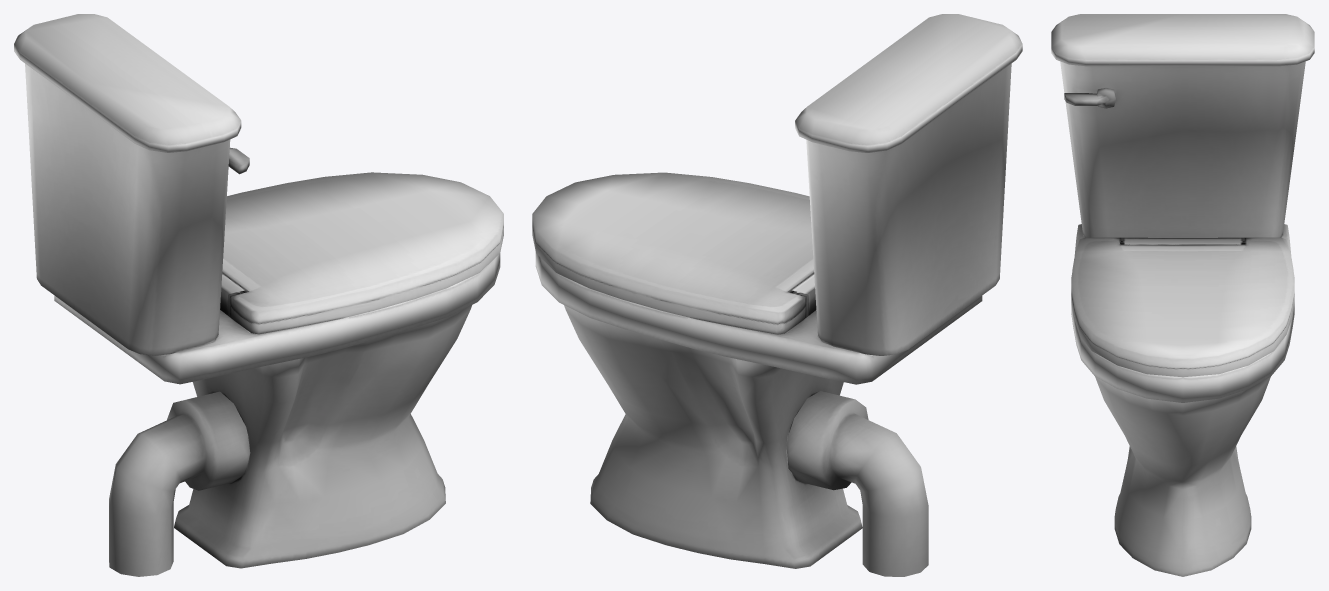
Rendered from toilet01.glb.
The picture shows the model from 3 angles, left to right: view 1: azimuth 30°, elevation 25°; view 2: azimuth 150°, elevation 25°; view 3: azimuth 270°, elevation 25°; orthographic projection. The views are drawn at different scales.
Parts seen in each view (by area): view 1: toilet01; view 2: toilet01; view 3: toilet01.
Boxes of the visible parts, <box> form: toilet01: <box>14,14,503,576</box>; toilet01: <box>532,14,1022,576</box>; toilet01: <box>1051,14,1314,576</box>.
Bounding box in the file's own units: 0.7764 × 0.8891 × 0.5085.
1 material, 1 textured.
